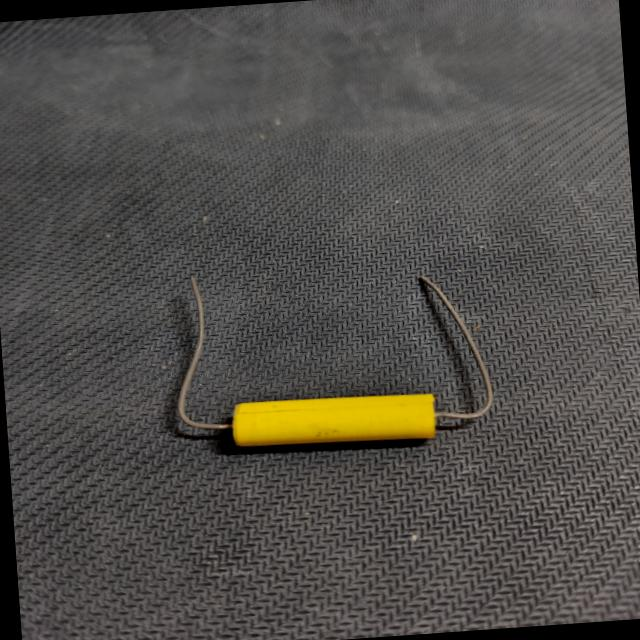capacitor: (154, 256, 511, 460)
